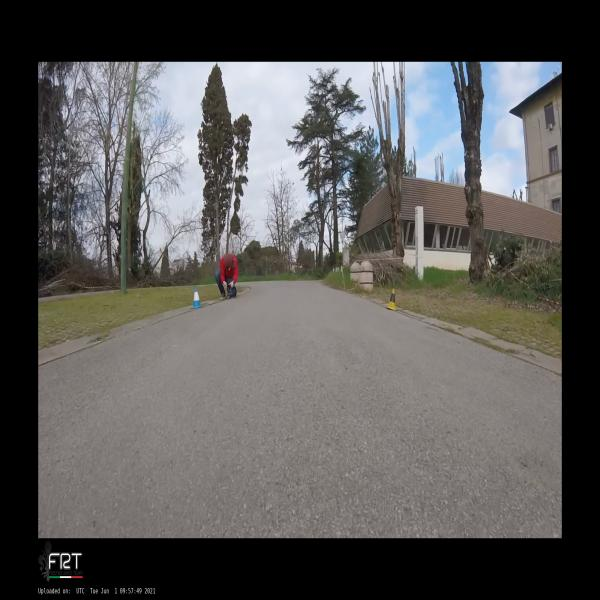blue_cone: (191, 286, 203, 308)
yellow_cone: (386, 288, 396, 310)
